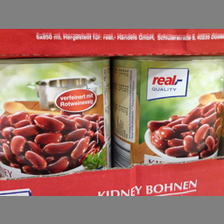beans: (113, 57, 223, 175), (1, 59, 109, 176)
